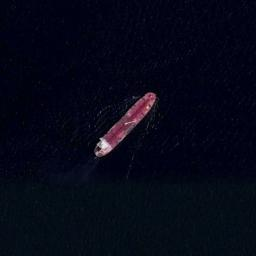boat: (94, 92, 156, 158)
